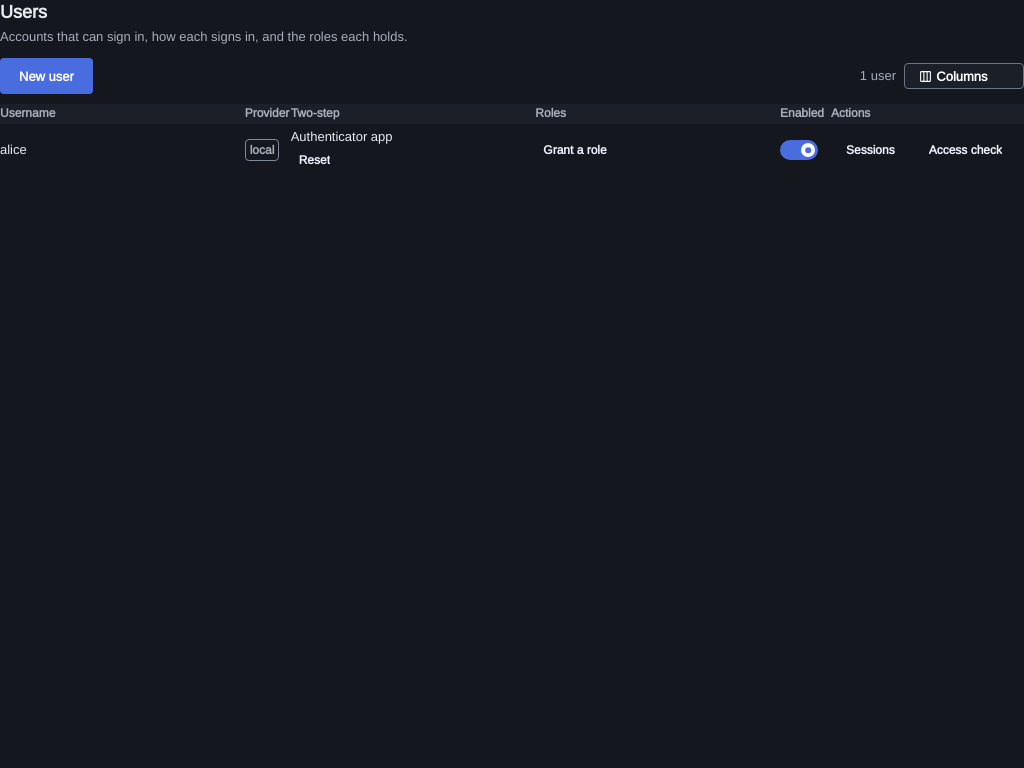
Test case: UsersPanel two-step verification › says what a refused reset (self-reset) means and what to do
Click the button with aria-label "Reset two-step verification of alice" at [314, 160], box [291,148,338,172]
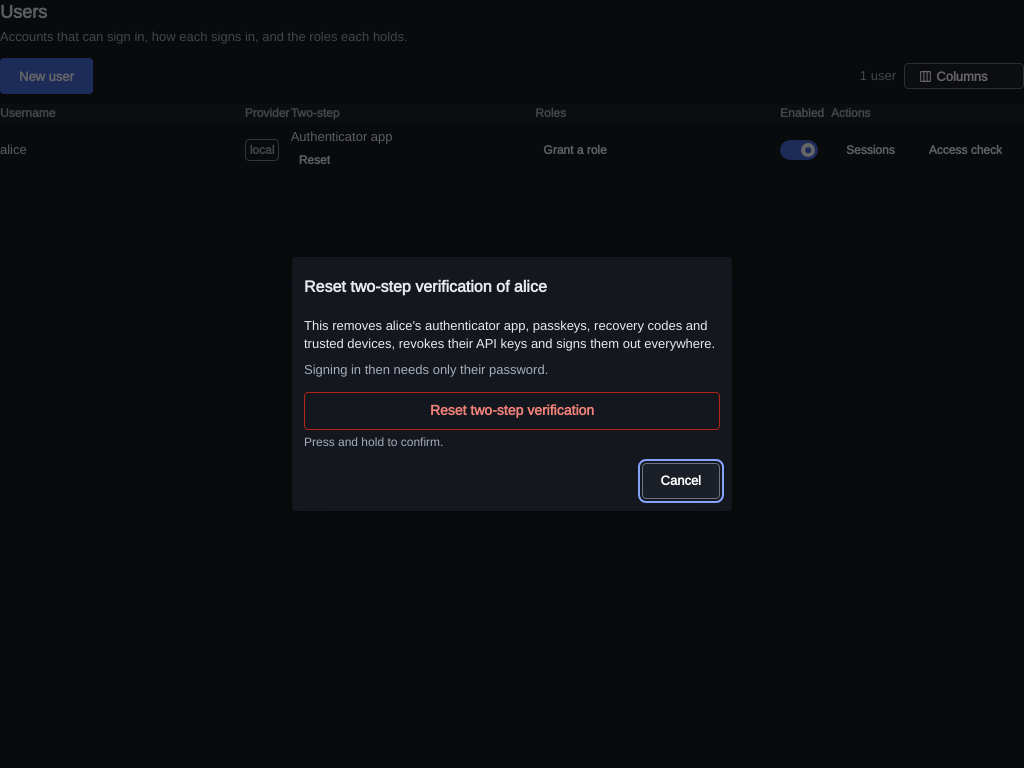
Press the mouse on the button "Reset two-step verification" at [512, 411], box [304,392,720,430]
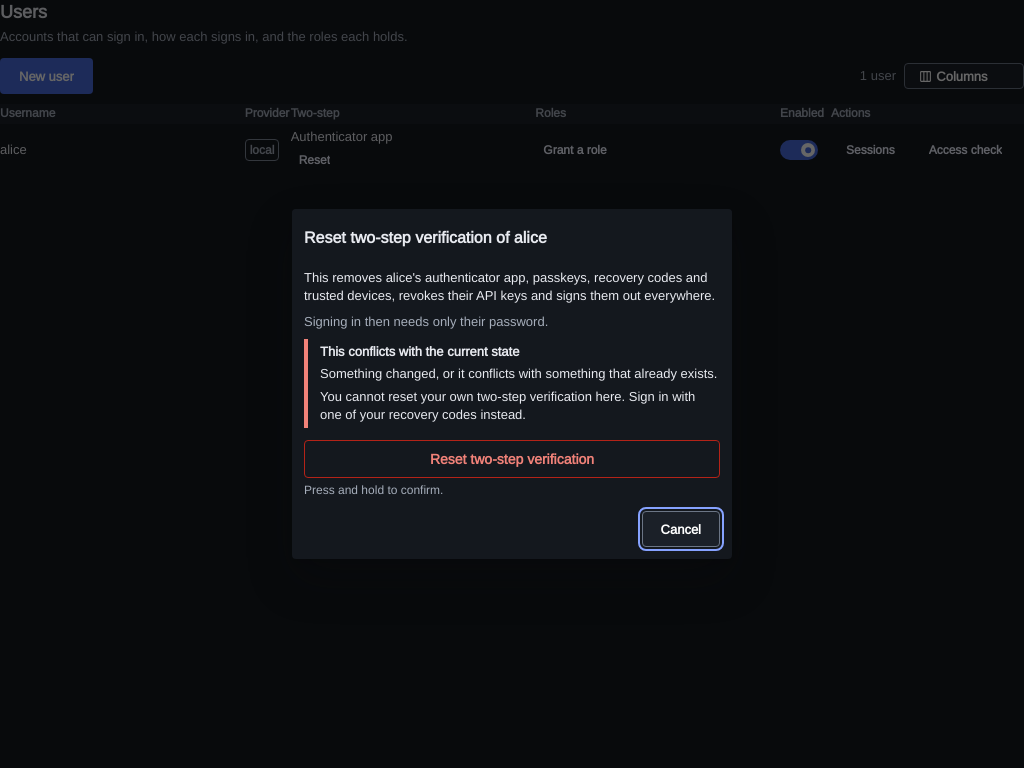
Expected: the dialog is shown, [292,209,732,559]
Expected: the message shows "cannot reset your own two-step verification here. Sign in with one of your recovery codes", [320,388,695,423]
